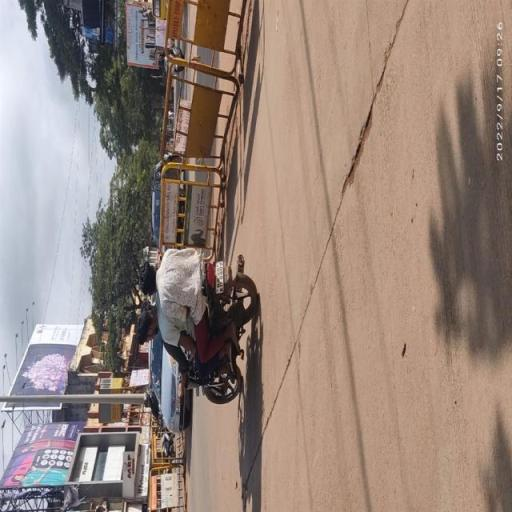tripple riding: (125, 232, 206, 380)
